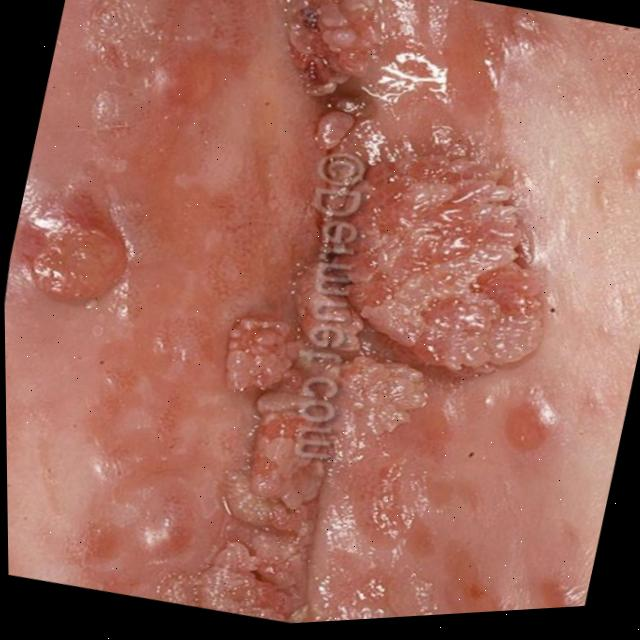Shingles: (152, 0, 582, 631)
